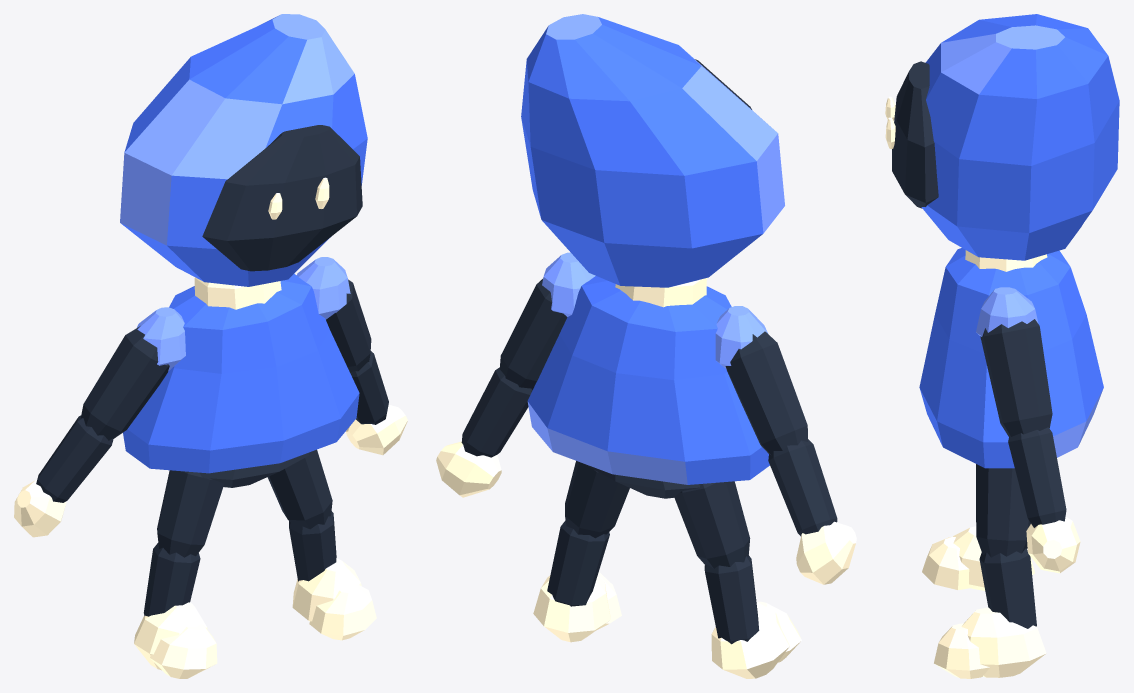
The model's file is character-preview.glb.
3 views of the same model, side by side, from view 1: azimuth 30°, elevation 25°; view 2: azimuth 150°, elevation 25°; view 3: azimuth 270°, elevation 25° (orthographic). The views are drawn at different scales.
Visible parts, largest first — view 1: Seed • posed preview; view 2: Seed • posed preview; view 3: Seed • posed preview.
Part boxes in pixels (x1,y1,x2,y2): Seed • posed preview: [14, 14, 407, 678]; Seed • posed preview: [436, 14, 856, 678]; Seed • posed preview: [885, 14, 1119, 678].
Size of the model in its own units: 1.62 by 2.35 by 0.7874.
